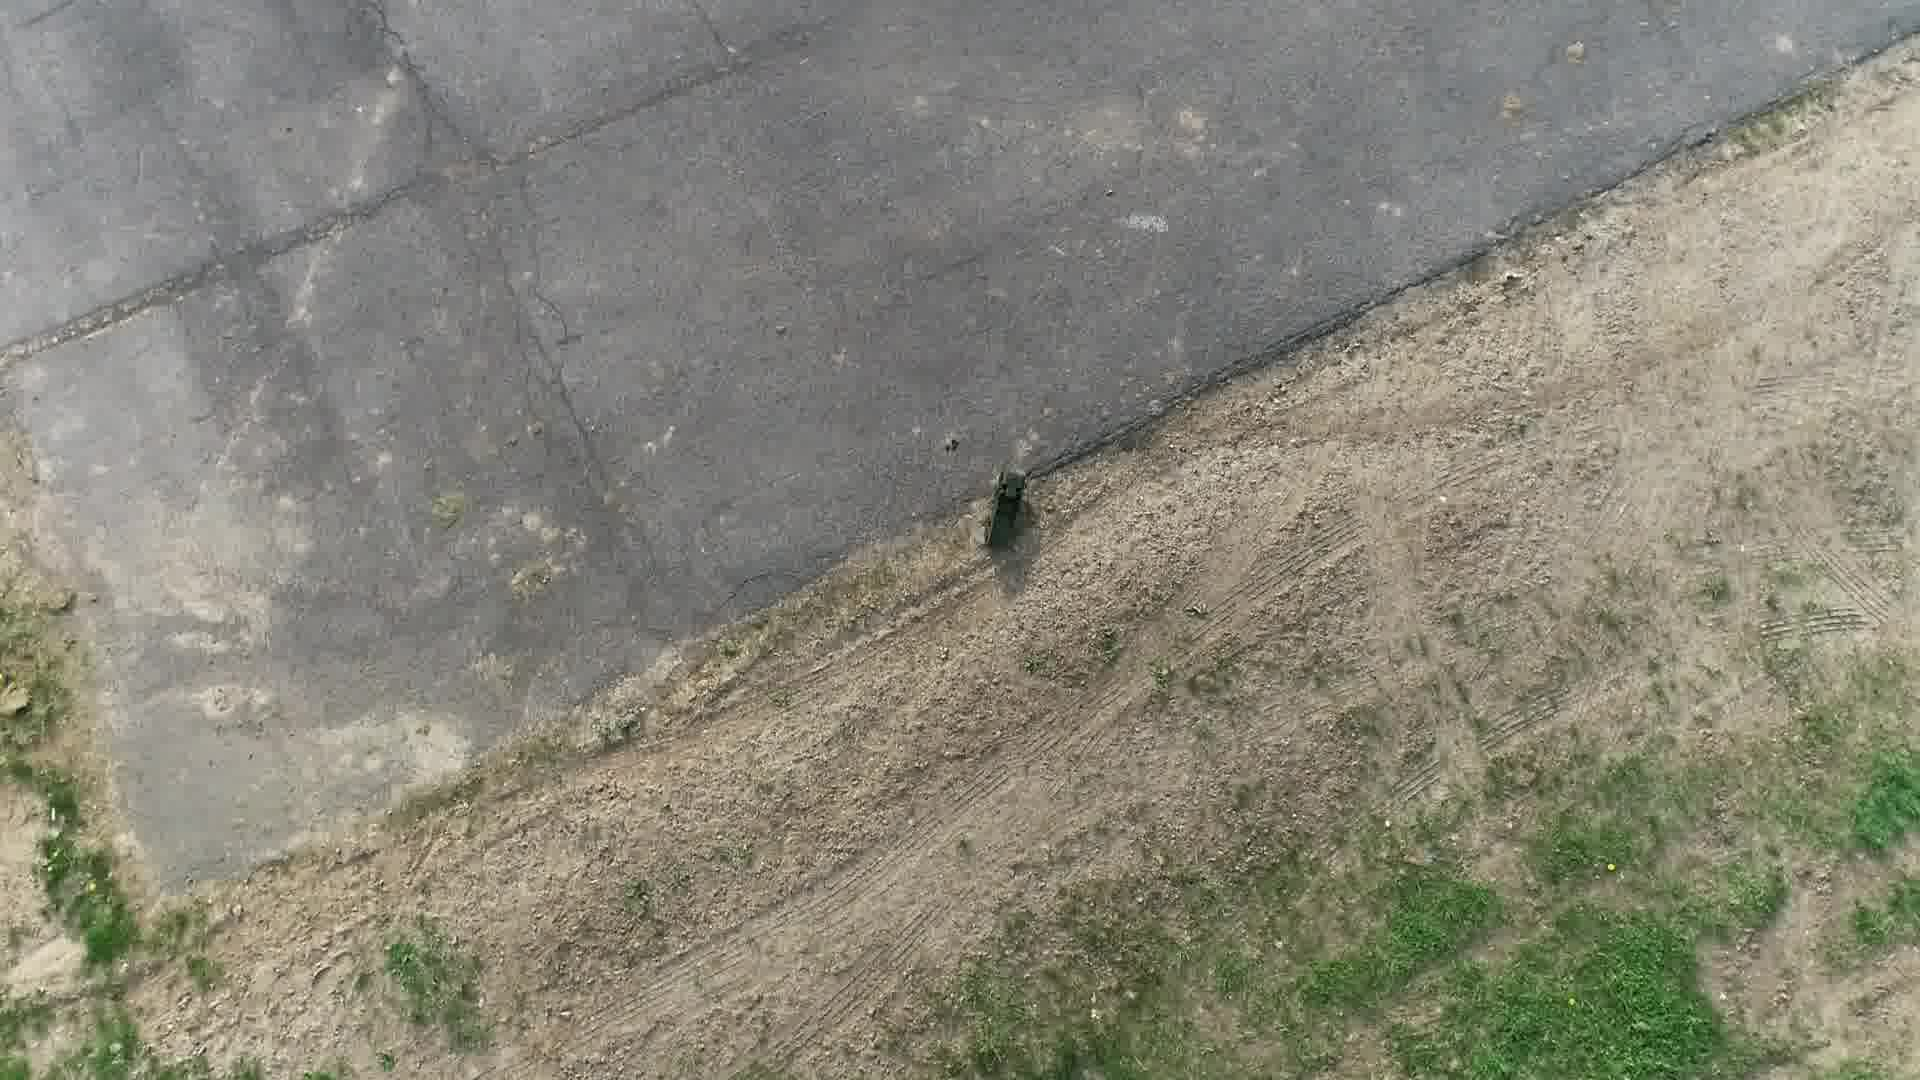transporter9: (980, 468, 1027, 555)
